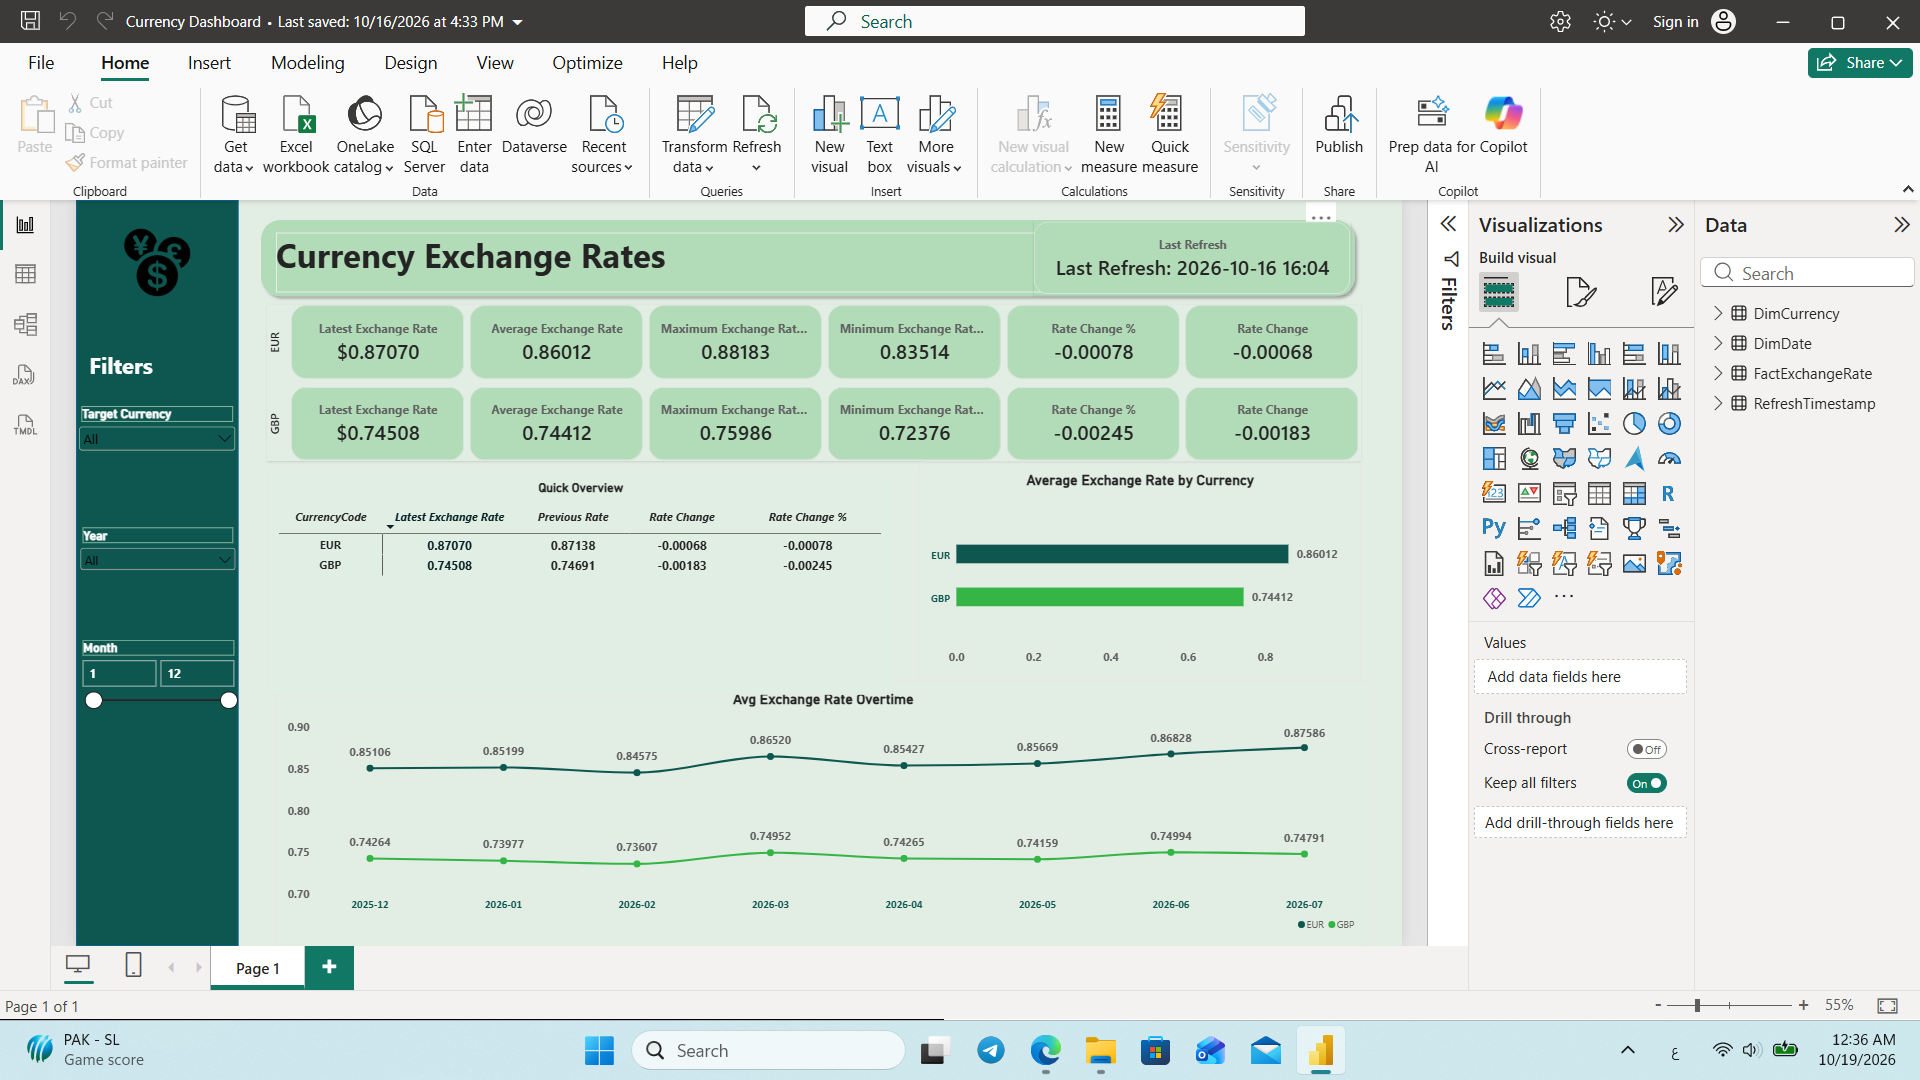

The dashboard page shown, as its layout file describes it:
{"tool":"powerbi","page":{"name":"Page 1","canvas":[1920,1080],"ordinal":0},"visuals":[{"type":"shape","box":[0,0,235.3,1080.4],"z":0},{"type":"cardVisual","fields":{"Data":["FactExchangeRate.Latest Exchange Rate","FactExchangeRate.Average Exchange Rate","FactExchangeRate.Maximum Exchange RateMaximum Exchange Rate","FactExchangeRate.Minimum Exchange RateMinimum Exchange Rate","FactExchangeRate.Rate Change %","FactExchangeRate.Rate Change"],"Rows":["FactExchangeRate.TargetCurrency"]},"box":[276.9,152,1583.5,226.2],"z":1000},{"type":"lineChart","title":"Avg Exchange Rate Overtime","fields":{"Category":["DimDate.YearMonth"],"Series":["FactExchangeRate.TargetCurrency"],"Y":["FactExchangeRate.Average Exchange Rate"]},"box":[289.5,694.9,1583.5,385.5],"z":2000},{"type":"barChart","title":"Average Exchange Rate by Currency","fields":{"Category":["DimCurrency.CurrencyCode"],"Y":["FactExchangeRate.Average Exchange Rate"]},"box":[1219.7,378.2,640.6,316.7],"z":3000},{"type":"pivotTable","title":"Quick Overview","fields":{"Rows":["DimCurrency.CurrencyCode"],"Values":["FactExchangeRate.Latest Exchange Rate","FactExchangeRate.Previous Rate","FactExchangeRate.Rate Change","FactExchangeRate.Rate Change %"]},"box":[276.9,390.9,906.6,325.7],"z":4000},{"type":"slicer","fields":{"Values":["FactExchangeRate.TargetCurrency"]},"box":[0,298.6,235.3,159.3],"z":5000},{"type":"slicer","fields":{"Values":["DimDate.Year"]},"box":[1.8,474.1,233.4,146.6],"z":6000},{"type":"slicer","fields":{"Values":["DimDate.Month"]},"box":[1.8,637,235.3,157.4],"z":7000},{"type":"shape","box":[258.8,19.9,1601.5,128.5],"z":8000},{"type":"textbox","box":[289.5,47.1,1536.4,86.9],"z":9000},{"type":"textbox","box":[1.8,217.2,199.1,48.9],"z":10000},{"type":"image","box":[52.5,41.6,130.3,97.7],"z":11000},{"type":"cardVisual","fields":{"Data":["RefreshTimestamp.Last Refresh"]},"box":[1386.2,30.8,459.7,106.8],"z":12000}]}

Visuals, with their boxes on the page's 1920x1080 design canvas (x1, y1, x2, y2). These are canvas units, not pixel positions in the 1920x1080 screenshot, which may show the page scaled, cropped or inside an application window:
shape: bbox=[0, 0, 235, 1080]
cardVisual - FactExchangeRate.Latest Exchange Rate x FactExchangeRate.Average Exchange Rate: bbox=[277, 152, 1860, 378]
"Avg Exchange Rate Overtime" lineChart: bbox=[290, 695, 1873, 1080]
"Average Exchange Rate by Currency" barChart: bbox=[1220, 378, 1860, 695]
"Quick Overview" pivotTable: bbox=[277, 391, 1184, 717]
slicer - FactExchangeRate.TargetCurrency: bbox=[0, 299, 235, 458]
slicer - DimDate.Year: bbox=[2, 474, 235, 621]
slicer - DimDate.Month: bbox=[2, 637, 237, 794]
shape: bbox=[259, 20, 1860, 148]
textbox: bbox=[290, 47, 1826, 134]
textbox: bbox=[2, 217, 201, 266]
image: bbox=[52, 42, 183, 139]
cardVisual - RefreshTimestamp.Last Refresh: bbox=[1386, 31, 1846, 138]
